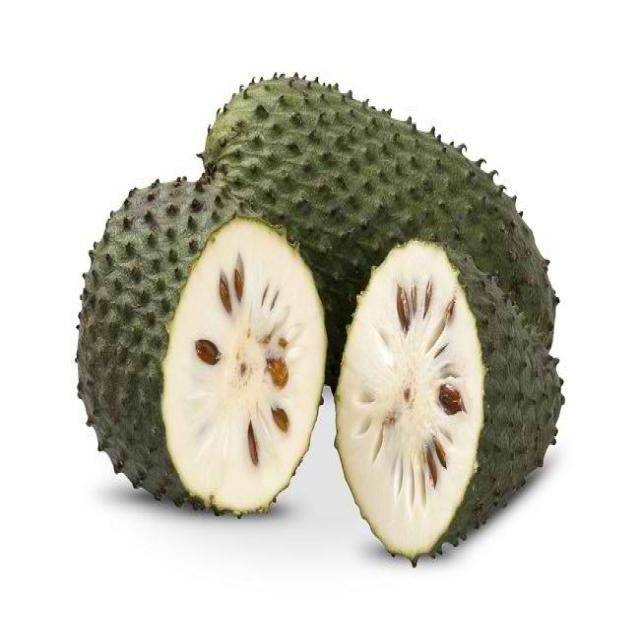fruit: (19, 18, 613, 616)
